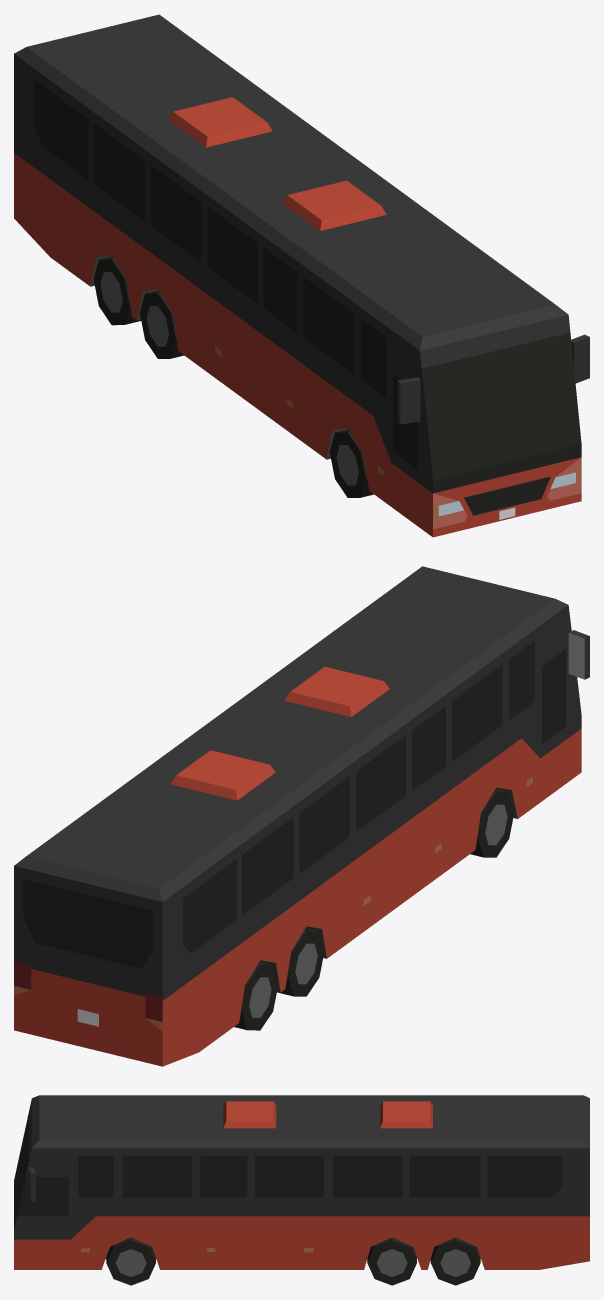
Rendered from Veh_Coach_01_Red.glb.
3 renders of one model, top to bottom at view 1: azimuth 30°, elevation 25°; view 2: azimuth 150°, elevation 25°; view 3: azimuth 270°, elevation 25°, orthographic. The views are drawn at different scales.
Parts seen in each view (by area): view 1: Coach_01_Red, Wheel_FR, Wheel_RR2, Wheel_RR1; view 2: Coach_01_Red, Wheel_RR1, Wheel_RR2, Wheel_FR; view 3: Coach_01_Red, Wheel_RL2, Wheel_RL1, Wheel_FL.
Boxes of the visible parts, left/top/right/bottom form: Coach_01_Red: left=14, top=14, right=589, bottom=537; Wheel_FR: left=329, top=429, right=373, bottom=497; Wheel_RR2: left=93, top=256, right=141, bottom=325; Wheel_RR1: left=140, top=290, right=183, bottom=358; Coach_01_Red: left=14, top=566, right=589, bottom=1066; Wheel_RR1: left=277, top=928, right=324, bottom=996; Wheel_RR2: left=234, top=962, right=278, bottom=1030; Wheel_FR: left=470, top=789, right=514, bottom=857; Coach_01_Red: left=14, top=1095, right=589, bottom=1269; Wheel_RL2: left=430, top=1237, right=480, bottom=1285; Wheel_RL1: left=367, top=1237, right=416, bottom=1285; Wheel_FL: left=106, top=1237, right=155, bottom=1285.
Size of the model in its own units: 1.75 by 1.9 by 6.68.
Materials: 1 (1 with a texture image).
